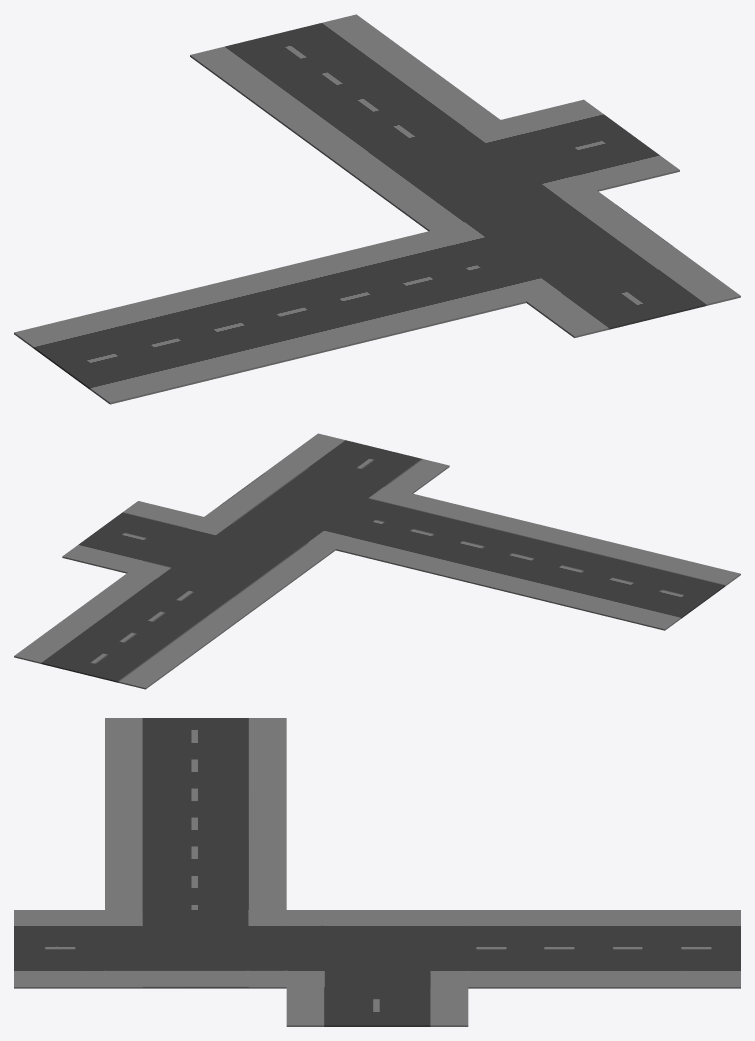
Rendered from Road_S.fbx.
The picture shows the model from 3 angles, top to bottom: view 1: azimuth 30°, elevation 25°; view 2: azimuth 150°, elevation 25°; view 3: azimuth 270°, elevation 25°; orthographic projection. The views are drawn at different scales.
Visible parts, largest first — view 1: pPlane73; view 2: pPlane73; view 3: pPlane73.
Boxes of the visible parts, x1,y1,x2,y2 form: pPlane73: (14, 14, 740, 404); pPlane73: (14, 433, 740, 689); pPlane73: (14, 718, 740, 1026).
Size of the model in its own units: 8 by 0.02 by 8.
